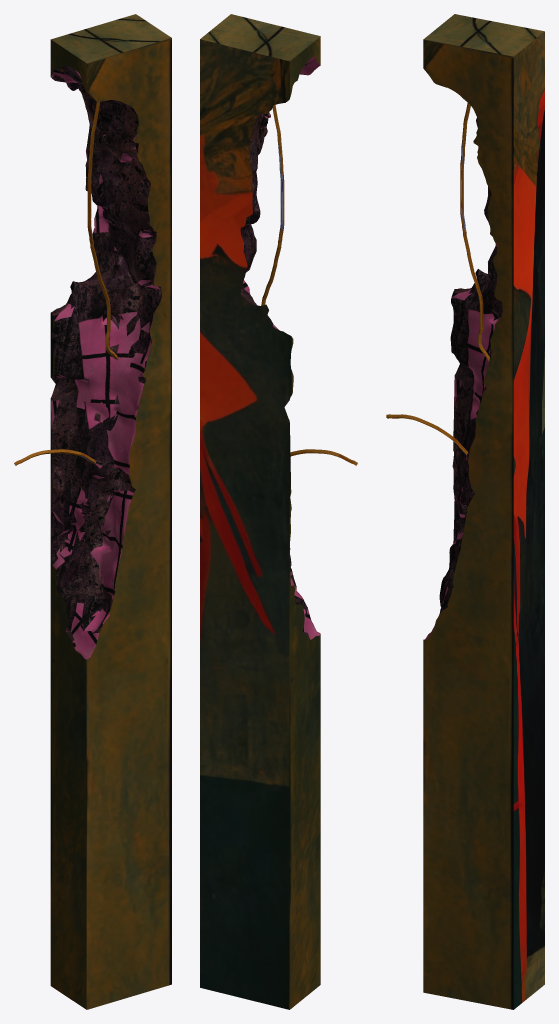
File: column3.glb
The picture shows the model from 3 angles, left to right: view 1: azimuth 30°, elevation 25°; view 2: azimuth 150°, elevation 25°; view 3: azimuth 330°, elevation 25°; orthographic projection.
Parts seen in each view (by area): view 1: Column.002; view 2: Column.002; view 3: Column.002.
Part boxes in pixels (<box>): Column.002: <box>14,14,171,1009</box>; Column.002: <box>200,14,357,1009</box>; Column.002: <box>386,14,544,1009</box>.
Size of the model in its own units: 0.3137 by 2.01 by 0.1369.
3 materials, 3 textured.
